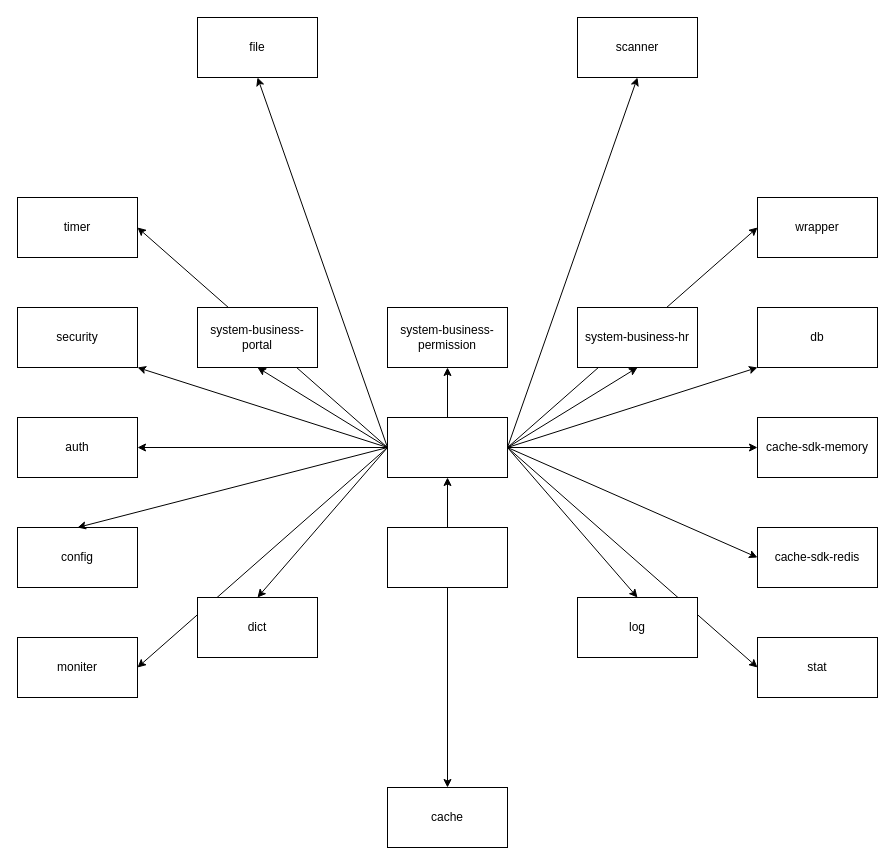
Some shapes in this 895 by 865 pixel diagram are drawn without their labels. Each missing label, with the centre of its shape:
system: the point at 447,447
WEB: the point at 447,557
